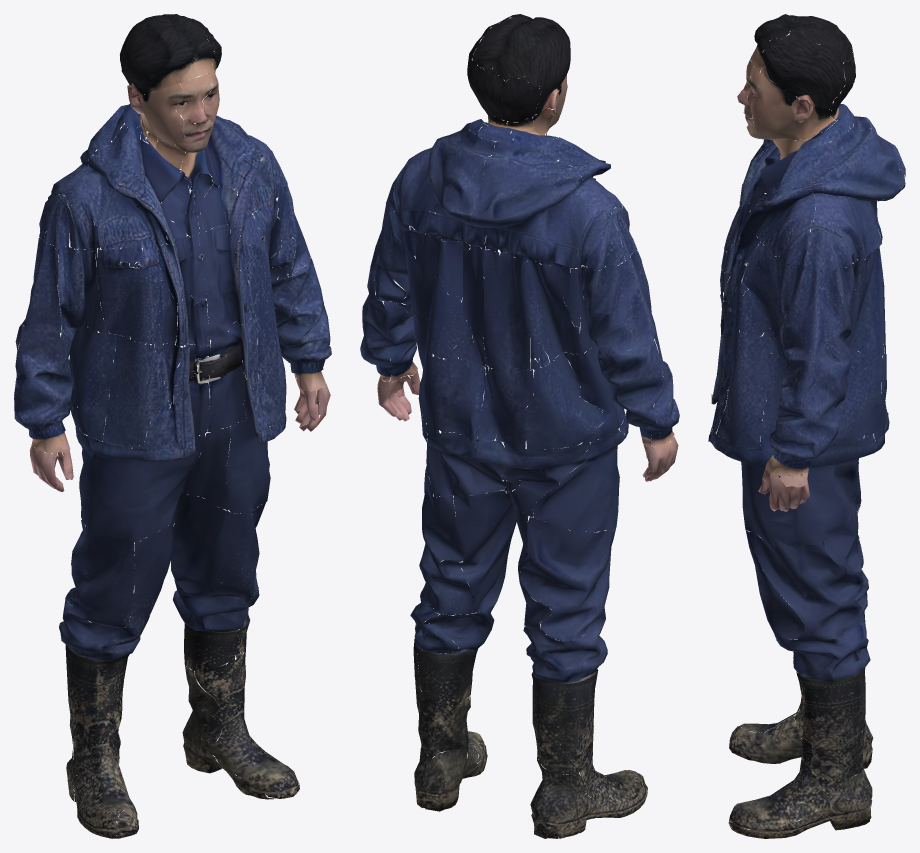
Rendered from police_body.glb.
The picture shows the model from 3 angles, left to right: view 1: azimuth 30°, elevation 25°; view 2: azimuth 150°, elevation 25°; view 3: azimuth 270°, elevation 25°; orthographic projection.
Parts seen in each view (by area): view 1: prop_police_body; view 2: prop_police_body; view 3: prop_police_body.
Part boxes in pixels (x1,y1,x2,y2): prop_police_body: (14,14,331,838); prop_police_body: (360,14,679,838); prop_police_body: (708,14,905,838).
Bounding box in the file's own units: 0.4066 × 0.9776 × 0.2272.
1 material, 1 textured.
